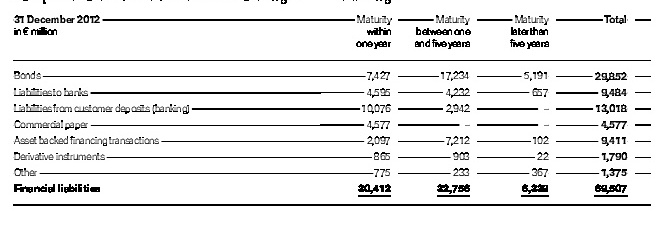table: (0, 0, 670, 228)
